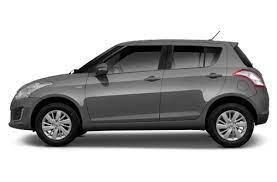Hatchback: (8, 35, 270, 148)
